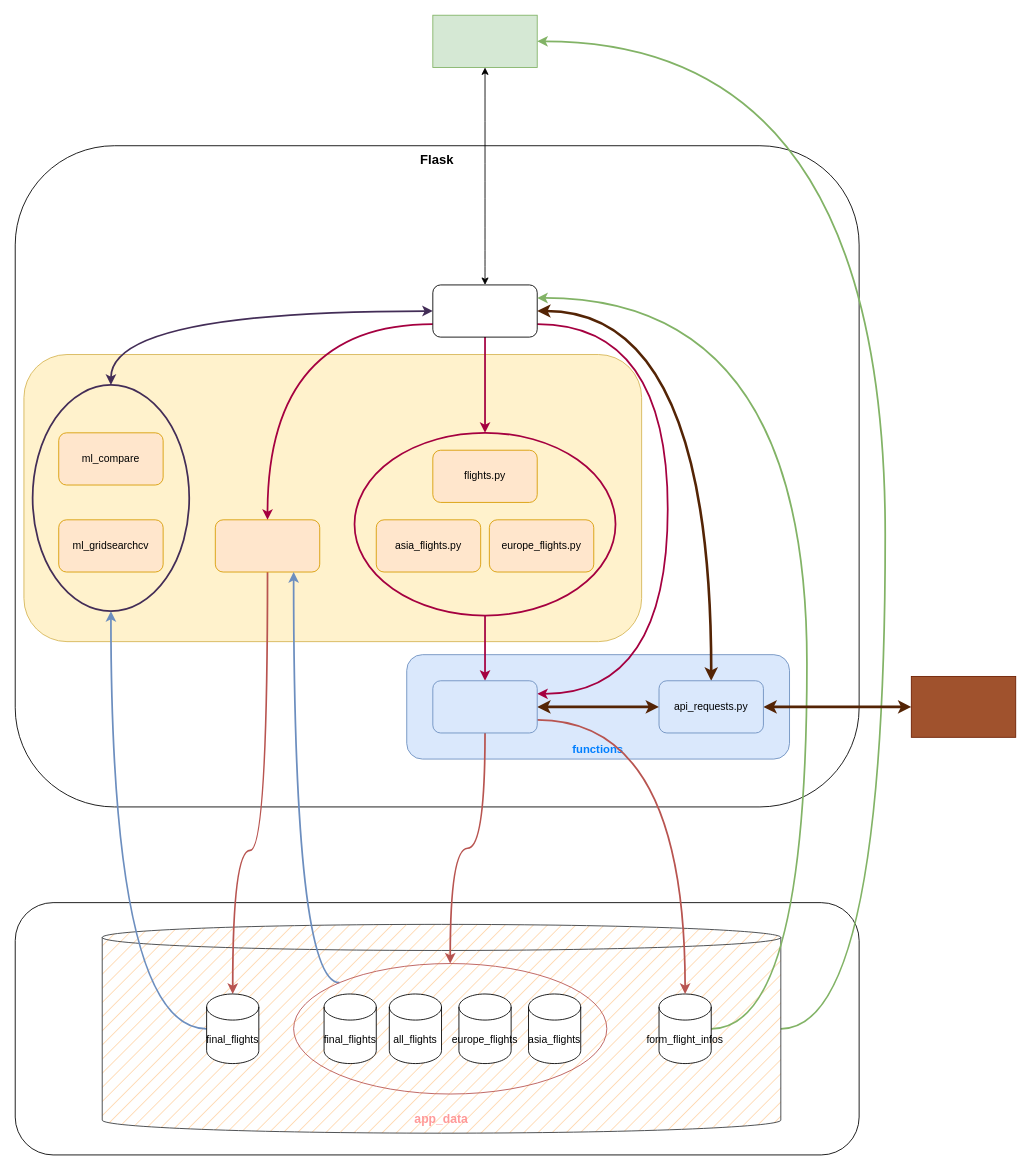
The diagram is 1031 pixels wide and 1170 high, and some of its shapes have lost their labels. The box of each missing label's shape, as (x1, y1, x2, y2) in pixels:
app.py: (432, 284, 537, 337)
concat_db.py: (214, 519, 320, 572)
functions.py: (432, 680, 537, 733)
Interface Web: (432, 14, 537, 67)
MongoDB: (14, 902, 859, 1155)
scripts: (23, 354, 642, 642)
Visualcrossing API LHOpenAPI Aviationstack API: (910, 676, 1016, 737)
